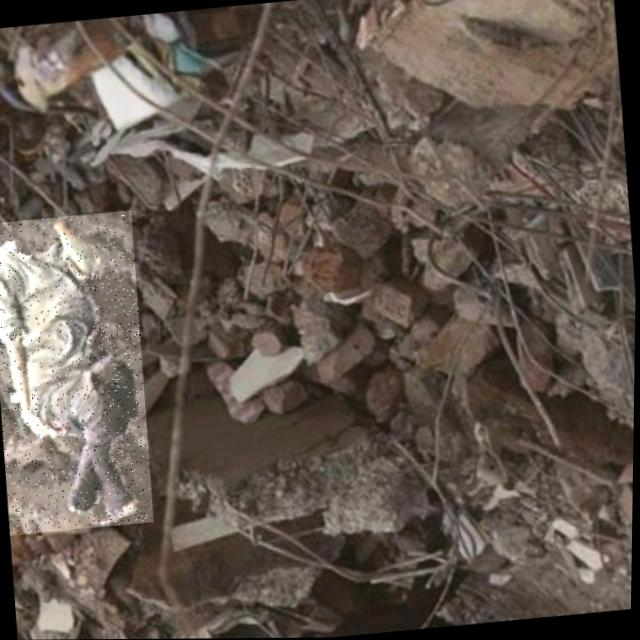Person in Rubble: (0, 209, 159, 534)
